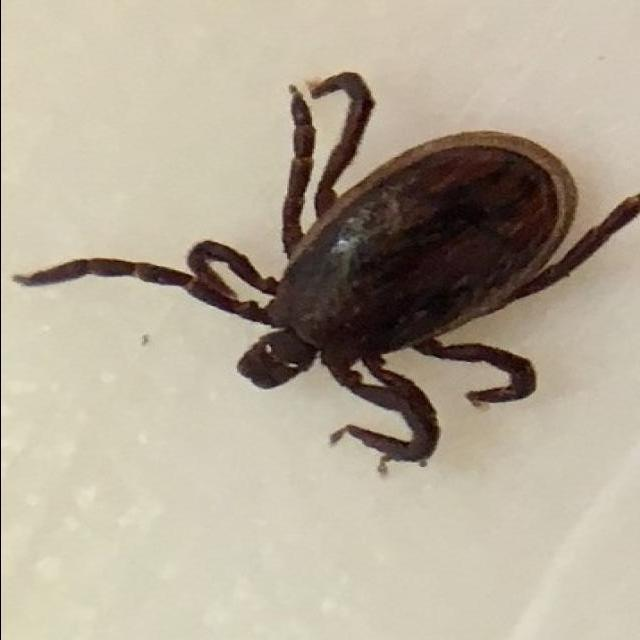Ixodes Ricinus-M: (39, 71, 640, 471)
